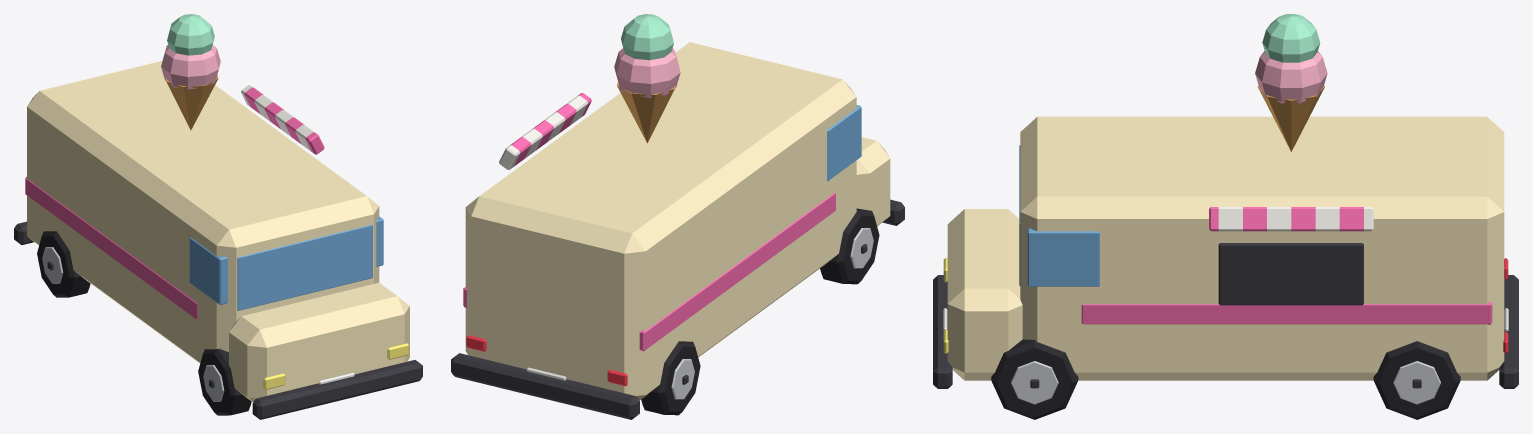
File: IceCreamTruck.fbx
The picture shows the model from 3 angles, left to right: view 1: azimuth 30°, elevation 25°; view 2: azimuth 150°, elevation 25°; view 3: azimuth 270°, elevation 25°; orthographic projection. The views are drawn at different scales.
Parts seen in each view (by area): view 1: IceCreamTruck, IceCreamTruck_WheelFR, IceCreamTruck_WheelBR; view 2: IceCreamTruck, IceCreamTruck_WheelFR, IceCreamTruck_WheelBR; view 3: IceCreamTruck, IceCreamTruck_WheelFL, IceCreamTruck_WheelBL.
Part boxes in pixels (left/top/right/bottom): IceCreamTruck: left=14, top=14, right=422, bottom=419; IceCreamTruck_WheelFR: left=198, top=348, right=251, bottom=415; IceCreamTruck_WheelBR: left=37, top=231, right=90, bottom=297; IceCreamTruck: left=451, top=14, right=904, bottom=419; IceCreamTruck_WheelFR: left=820, top=208, right=879, bottom=284; IceCreamTruck_WheelBR: left=641, top=341, right=700, bottom=415; IceCreamTruck: left=933, top=14, right=1518, bottom=388; IceCreamTruck_WheelFL: left=991, top=339, right=1078, bottom=419; IceCreamTruck_WheelBL: left=1373, top=341, right=1460, bottom=419.
Bounding box in the file's own units: 5.33 × 8.13 × 12.1.
1 material, 1 textured.
